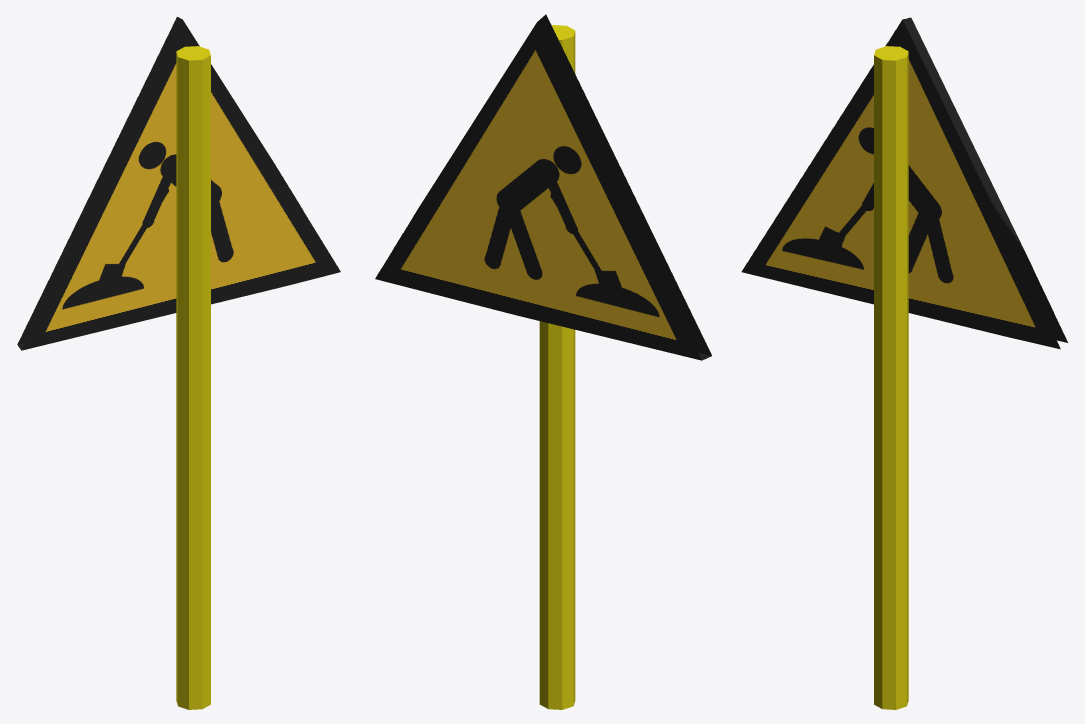
The model's file is Sign.fbx.
The picture shows the model from 3 angles, left to right: view 1: azimuth 30°, elevation 25°; view 2: azimuth 150°, elevation 25°; view 3: azimuth 330°, elevation 25°; orthographic projection. The views are drawn at different scales.
Visible parts, largest first — view 1: Circle; view 2: Circle; view 3: Circle.
Boxes of the visible parts, box(x1,y1,x2,y2) form: Circle: box(17, 17, 340, 709); Circle: box(375, 14, 711, 709); Circle: box(741, 17, 1067, 709).
Bounding box in the file's own units: 0.5196 × 1.04 × 0.0758.
2 materials, 1 textured.
